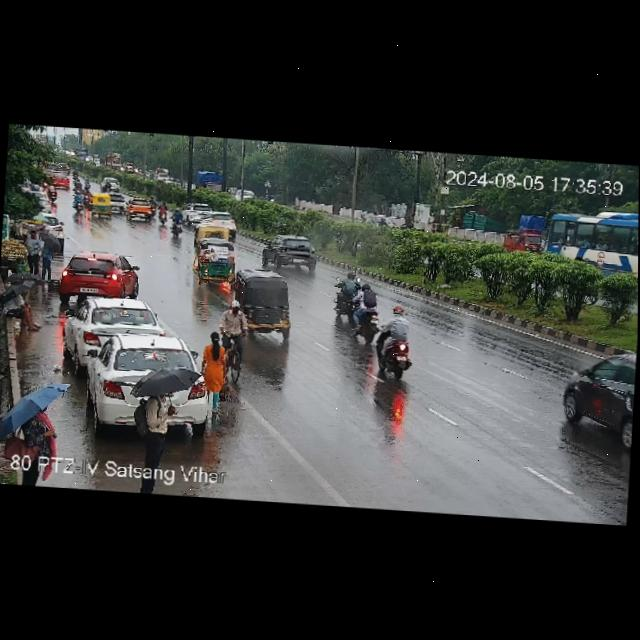bus: (545, 205, 639, 281)
car: (557, 344, 636, 436), (86, 332, 198, 394), (64, 293, 160, 359), (59, 250, 145, 308), (228, 267, 296, 340), (192, 236, 238, 287), (262, 231, 316, 273), (191, 225, 232, 246), (87, 192, 113, 220), (183, 202, 217, 223), (201, 209, 234, 227), (127, 199, 149, 222), (111, 195, 128, 214), (102, 177, 122, 193), (52, 174, 71, 189)
motorcycle: (328, 274, 382, 344), (377, 304, 417, 376), (225, 298, 246, 382), (71, 190, 88, 216), (170, 212, 186, 238), (154, 200, 170, 226), (149, 194, 158, 216), (48, 183, 57, 201), (84, 175, 91, 189), (74, 179, 81, 190), (106, 182, 111, 191)
person: (131, 371, 169, 464), (19, 386, 64, 454), (203, 330, 231, 400), (3, 289, 38, 331), (22, 229, 48, 274), (39, 232, 57, 284)
truck: (192, 168, 230, 194)
